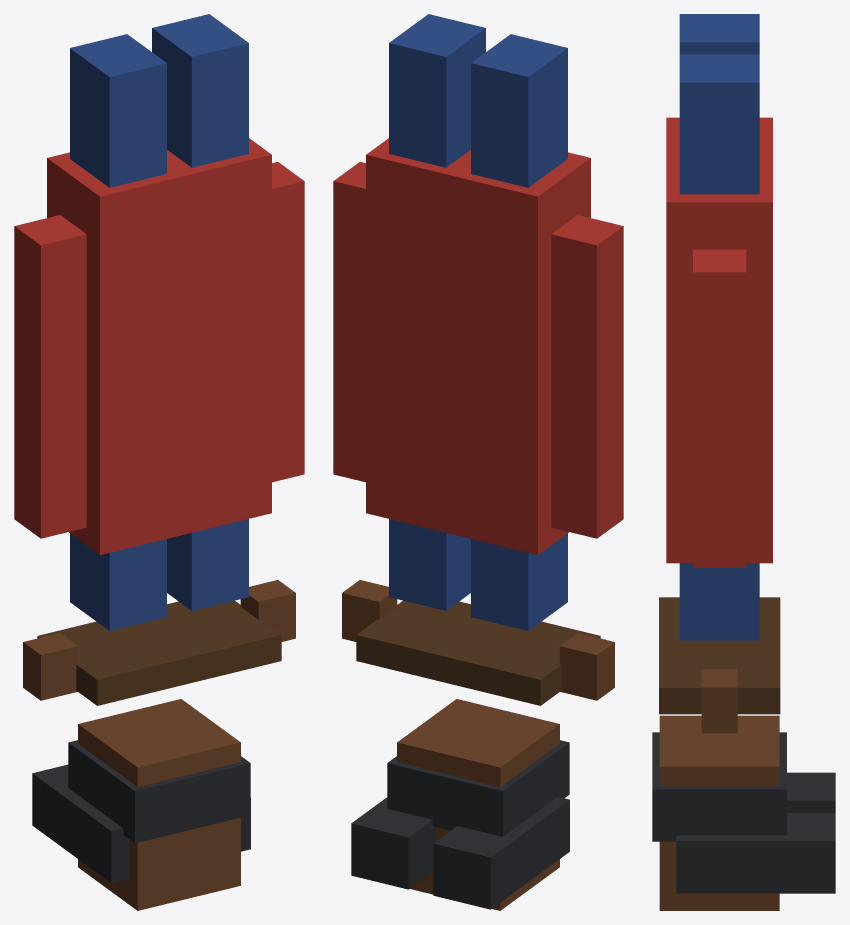
The model's file is civilian-007.glb.
The picture shows the model from 3 angles, left to right: view 1: azimuth 30°, elevation 25°; view 2: azimuth 150°, elevation 25°; view 3: azimuth 270°, elevation 25°; orthographic projection.
Parts seen in each view (by area): view 1: civilian_civilian-007; view 2: civilian_civilian-007; view 3: civilian_civilian-007.
Part boxes in pixels (x1,y1,x2,y2): civilian_civilian-007: (14, 14, 304, 910); civilian_civilian-007: (333, 14, 623, 910); civilian_civilian-007: (652, 14, 835, 910).
Size of the model in its own units: 0.4232 by 1.28 by 0.2528.
